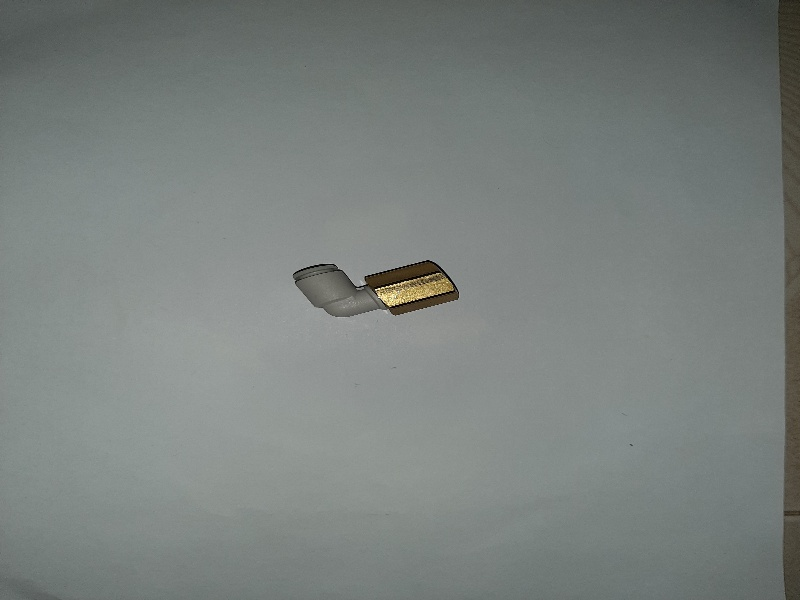Connector: (291, 264, 471, 320)
